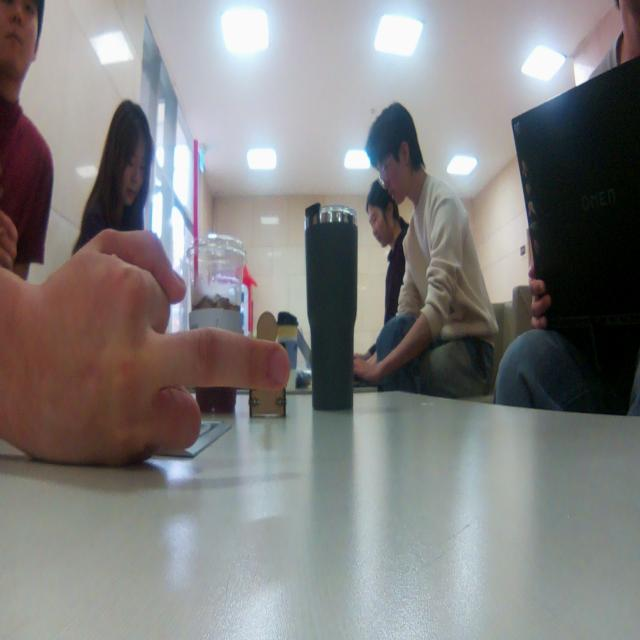target: (248, 310, 286, 420)
